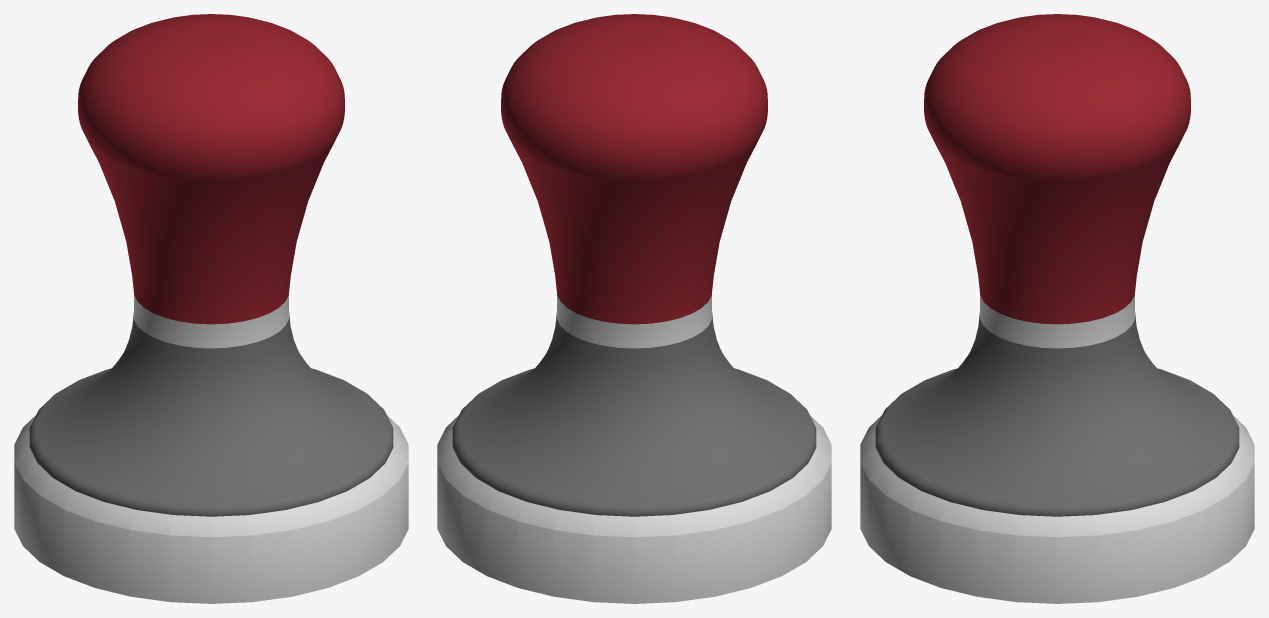
File: tamper.glb
3 renders of one model, left to right at view 1: azimuth 30°, elevation 25°; view 2: azimuth 150°, elevation 25°; view 3: azimuth 270°, elevation 25°, orthographic.
Parts seen in each view (by area): view 1: tamper; view 2: tamper; view 3: tamper.
Boxes of the visible parts, x1=… form: tamper: x1=14, y1=14, x2=408, y2=603; tamper: x1=437, y1=14, x2=831, y2=603; tamper: x1=860, y1=14, x2=1254, y2=603.
Bounding box in the file's own units: 1.51 × 2.03 × 1.51.
